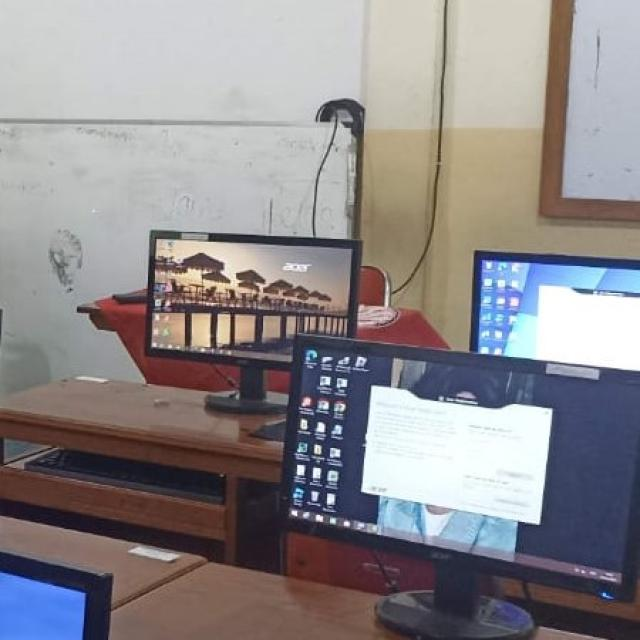onscreen: (284, 335, 640, 599), (152, 234, 349, 361), (473, 253, 640, 369)
